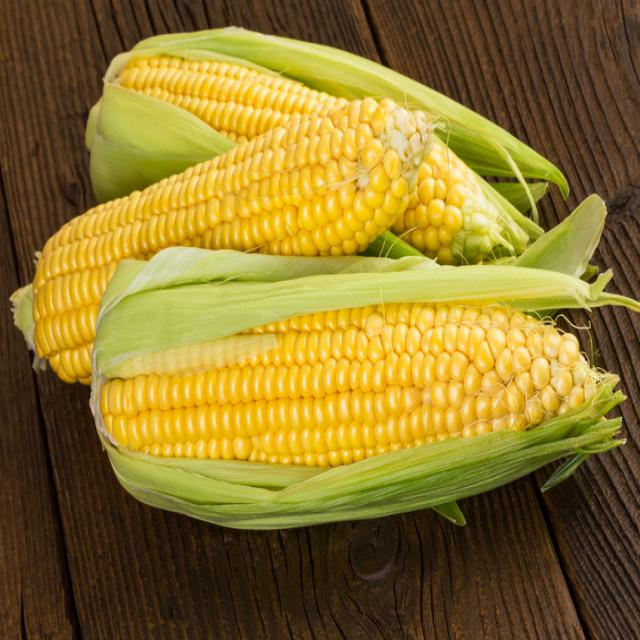corn: (29, 94, 452, 383), (98, 299, 608, 485)
